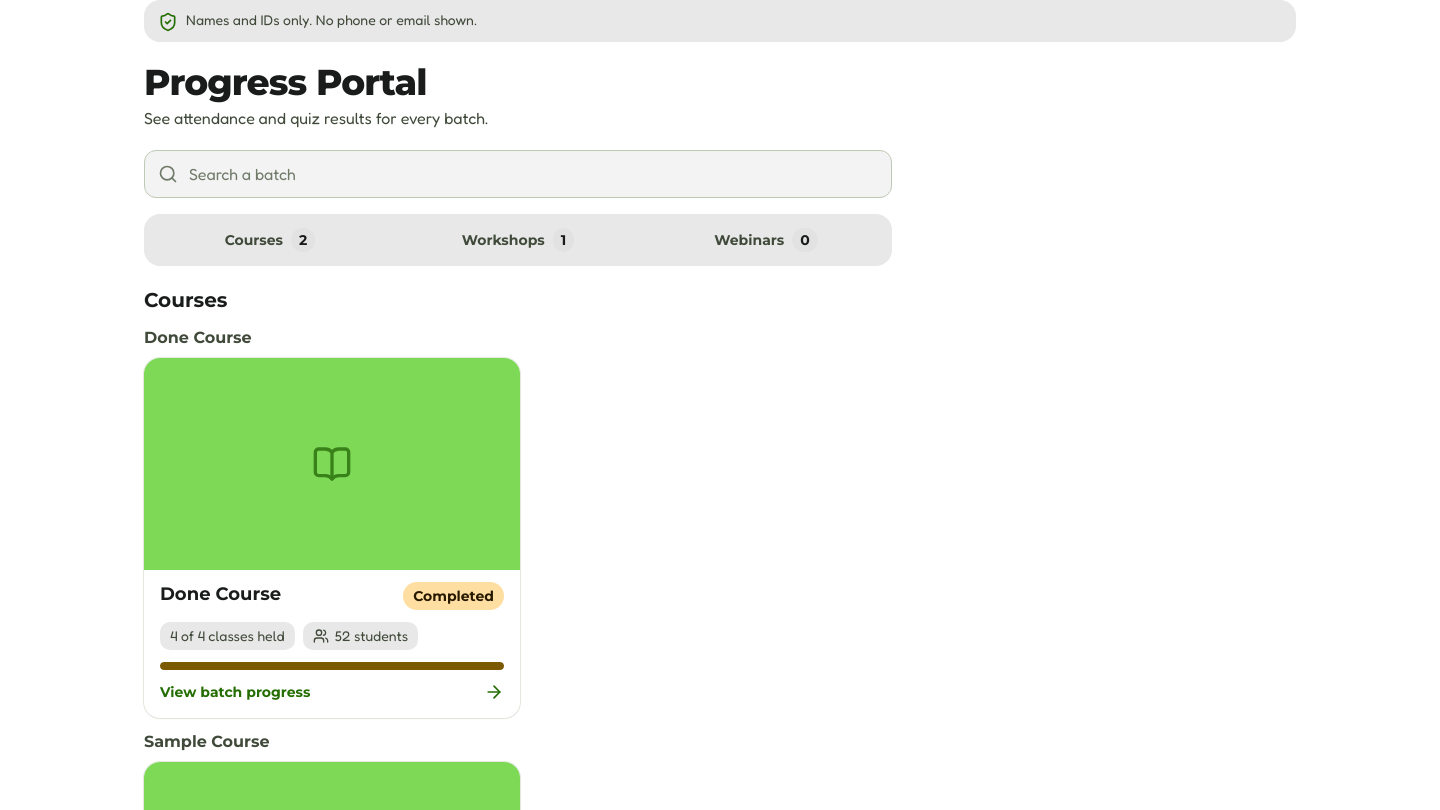
Test: PortalHome › filters by title search and by tab
Type "workshop" into the search field labelled "Search a batch" at (518, 174), box [144, 150, 892, 198]
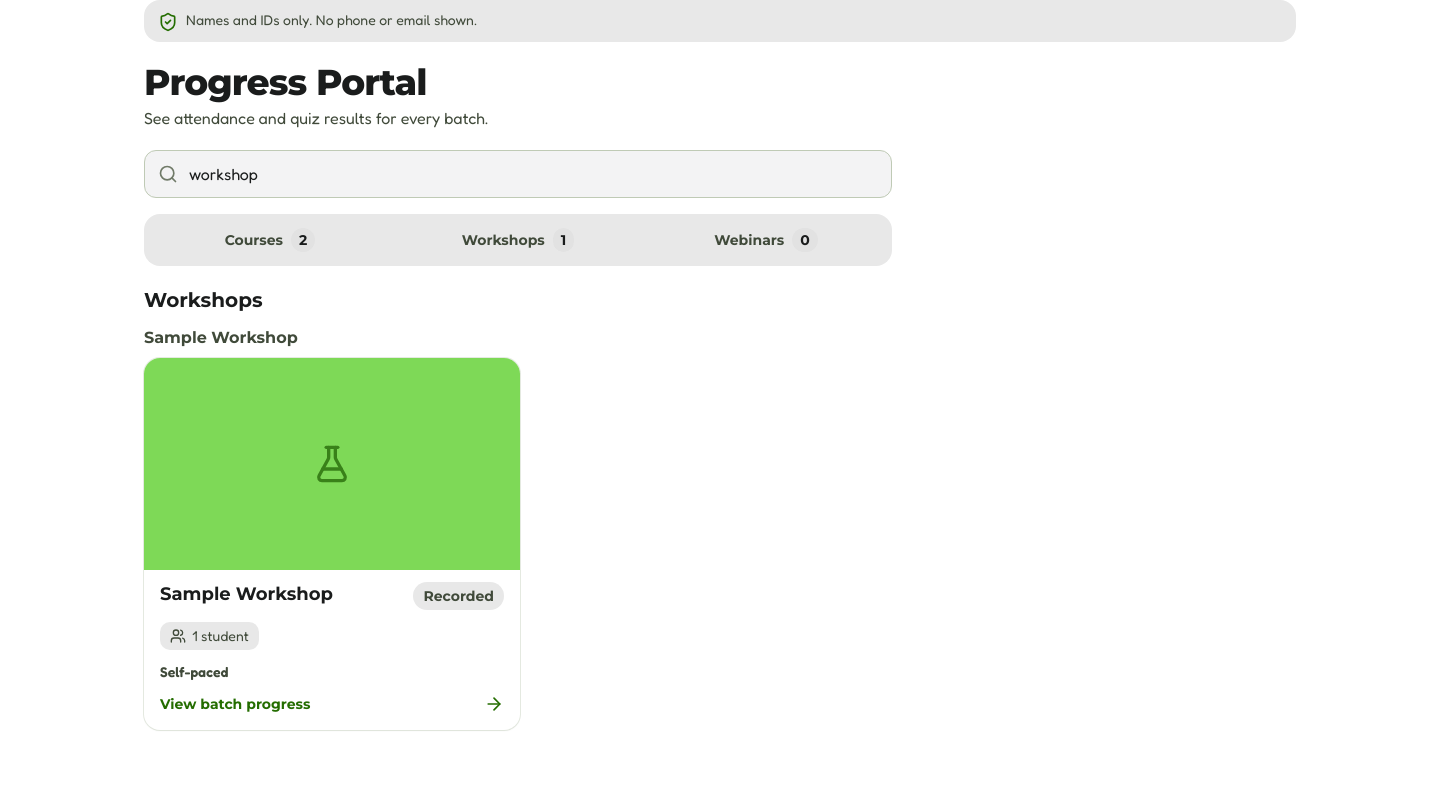
Check: the link "Sample Workshop" is shown, box [144, 358, 520, 730]
Check: the heading "Sample Course" is gone
Clear the search field named "Search a batch" at (518, 174), box [144, 150, 892, 198]
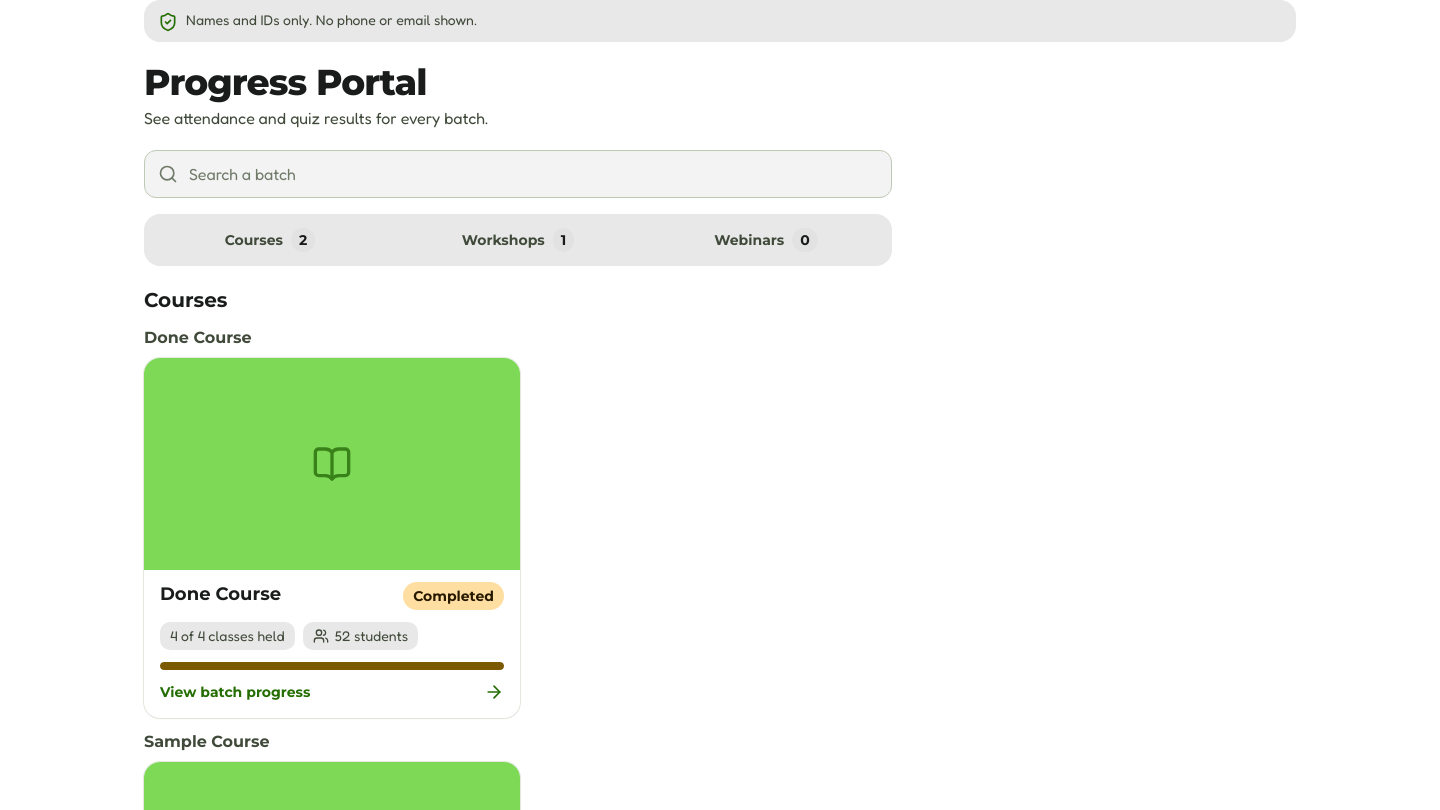
Click the tab "Workshops 1" at (518, 240), box [396, 218, 640, 262]
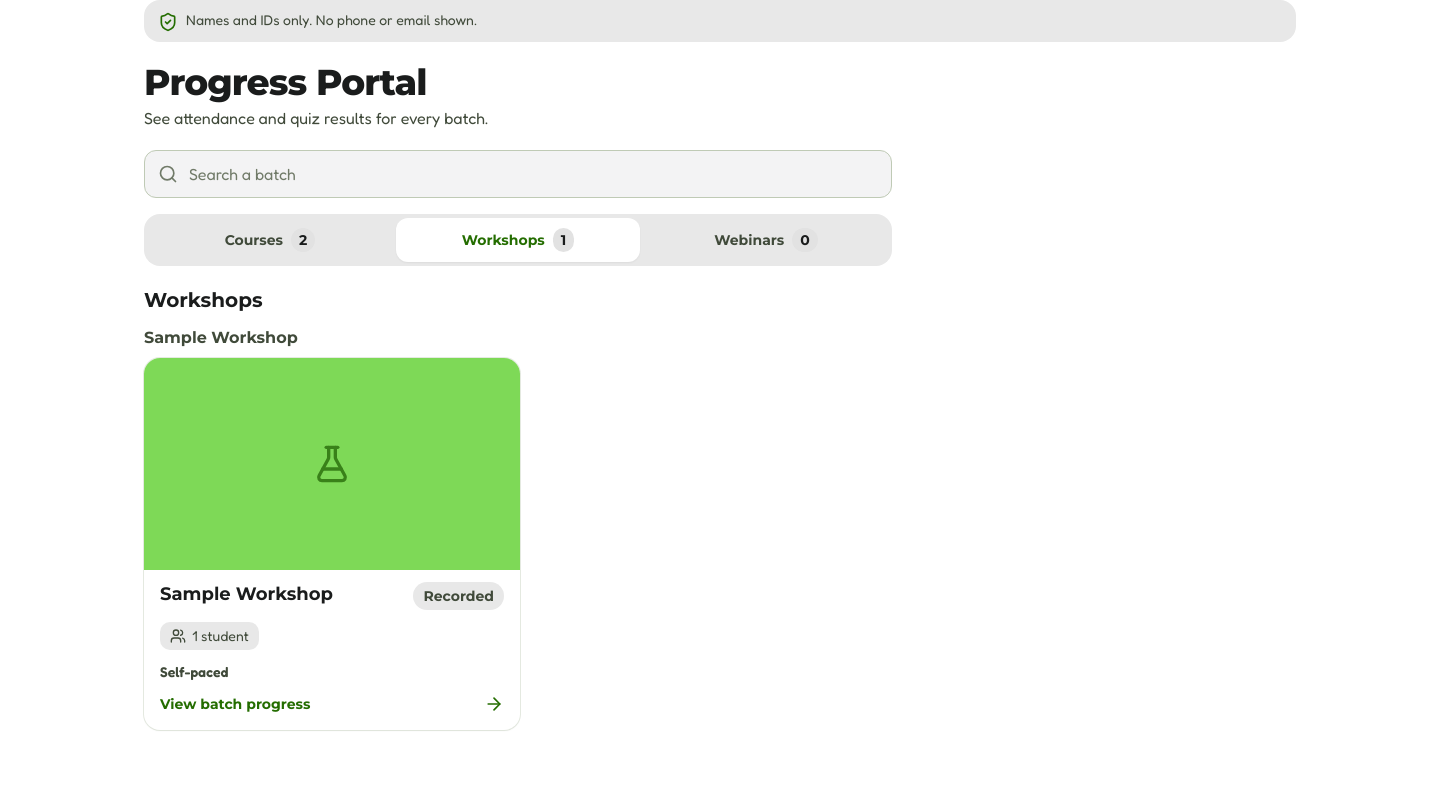
Check: the link "Sample Workshop" is shown, box [144, 358, 520, 730]
Check: the heading "Sample Course" is gone
